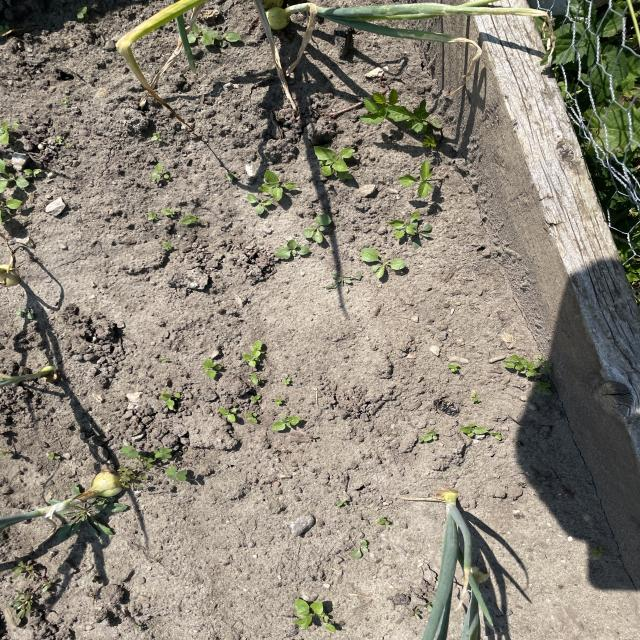Onion: (435, 490, 499, 640), (263, 4, 497, 36), (0, 468, 117, 524)
weed: (357, 90, 448, 140), (116, 442, 198, 490), (5, 559, 60, 620), (0, 120, 33, 218), (275, 214, 333, 269), (240, 172, 301, 222), (504, 354, 564, 400), (294, 144, 362, 184), (73, 499, 122, 546), (344, 247, 404, 285), (407, 163, 454, 200), (288, 596, 335, 632), (236, 336, 273, 374)
